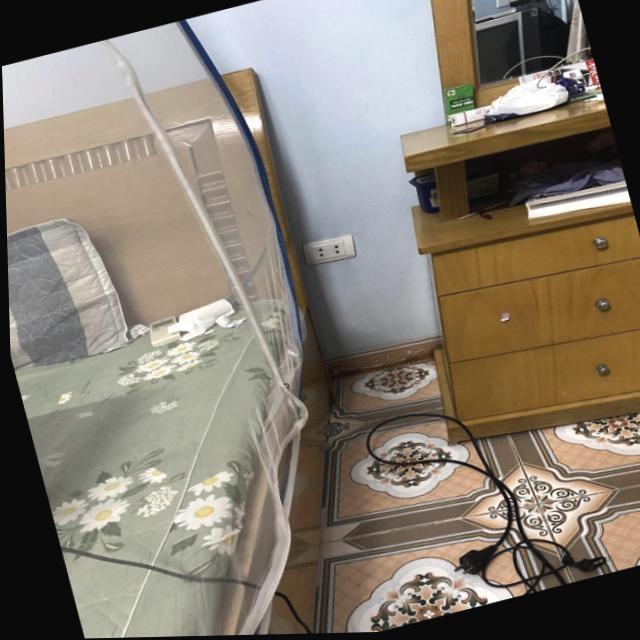outlet: (301, 231, 358, 268)
